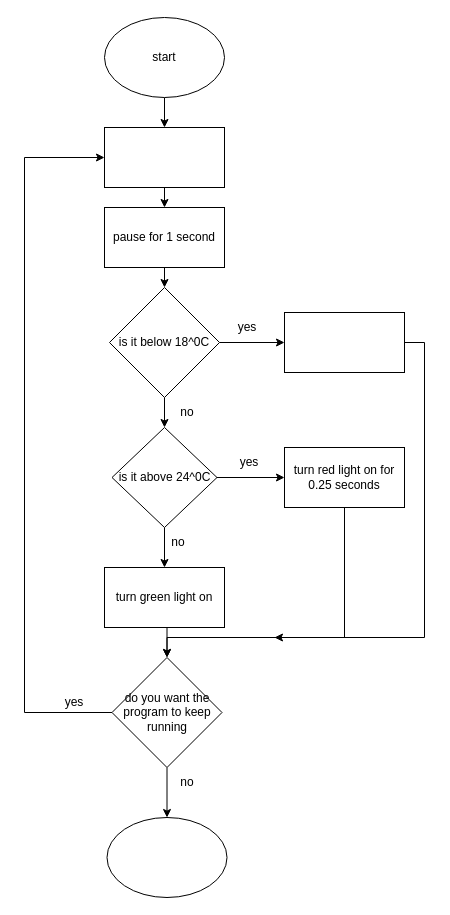
Some shapes in this 450 by 915 pixel diagram are drawn without their labels. The shapes that lost their labels are listed below. From the top down, each one's centre as x and y in pixels, then its label:
At (164,157): "check temperature".
At (344,342): "turn yellow light on for 0.5 seconds".
At (166,857): "end".
